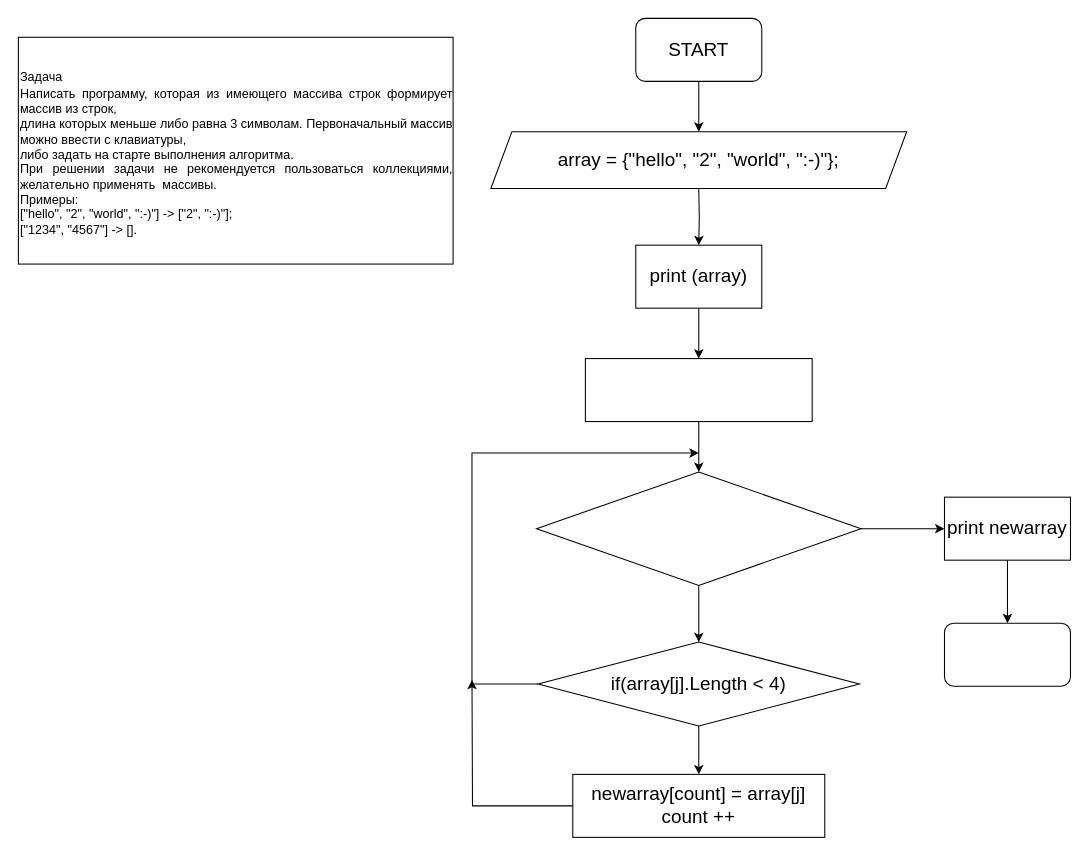
Image size: 1089x856. Some labels were removed from this diagram. The shapes that lost their labels are listed below. From the top down, each one's centre as x and y in pixels, then its label:
At point 698,390: "newarray = [count]; count =0;".
At point 698,528: "for (j = 0; j < array.Length; j ++)".
At point 1006,654: "FINISH".
